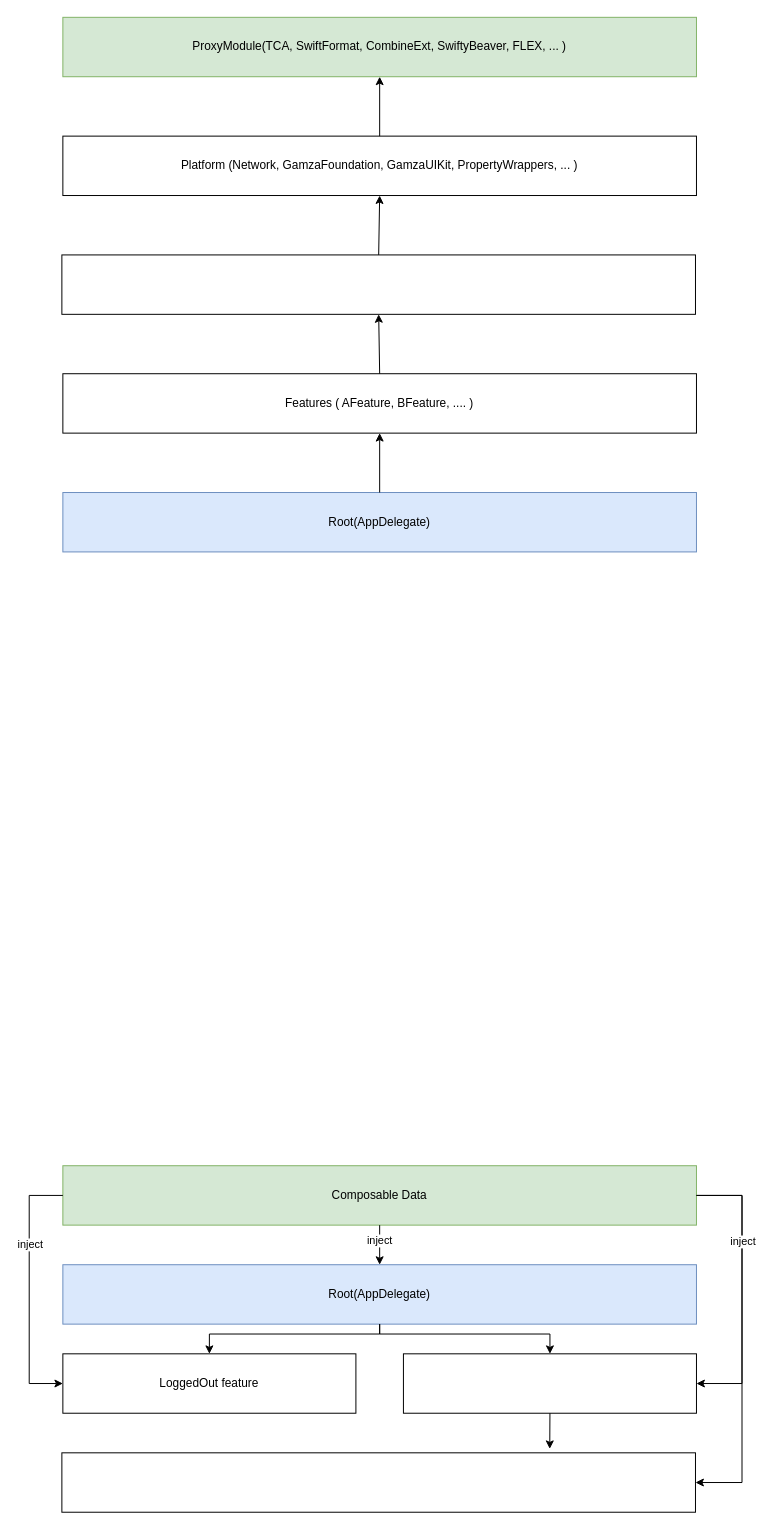
Image size: 772x1530. Some labels were removed from this diagram. The shapes that lost their labels are listed below. From the top down, each one's box as (x1, y1, x2, y2) in pixels, then its label:
(61, 254, 695, 314): Domain ( ADomain, BDomain, .... )
(402, 1353, 696, 1413): LoggedIn feature
(61, 1452, 695, 1512): sub-features ...
